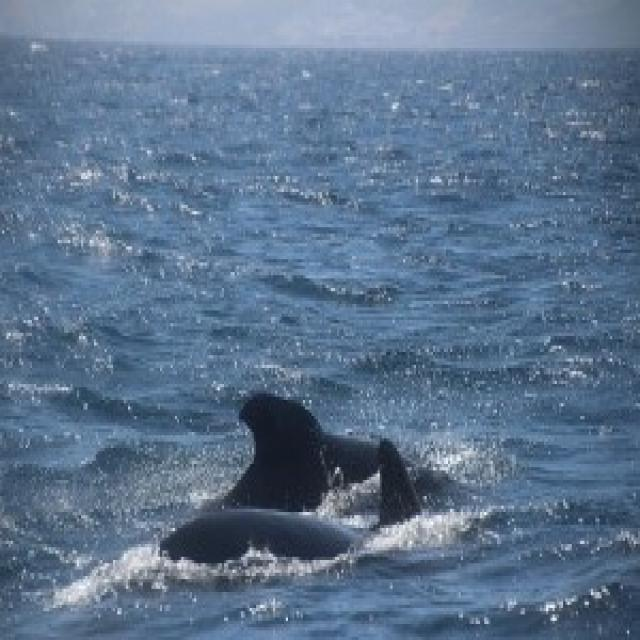Dolphin: (210, 373, 374, 508)
